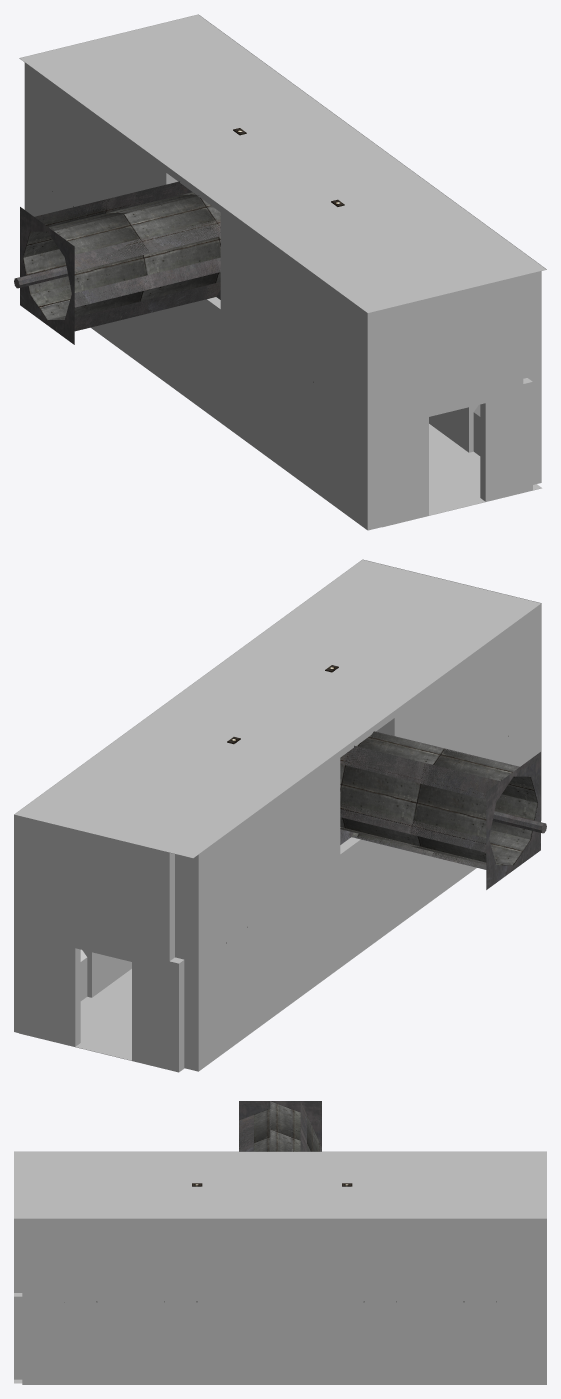
The model's file is LC_room2_vent.obj.
The picture shows the model from 3 angles, top to bottom: view 1: azimuth 30°, elevation 25°; view 2: azimuth 150°, elevation 25°; view 3: azimuth 270°, elevation 25°; orthographic projection. The views are drawn at different scales.
Visible parts, largest first — view 1: LC_room2_vent; view 2: LC_room2_vent; view 3: LC_room2_vent.
Part boxes in pixels (bbox=[...]): LC_room2_vent: bbox=[14, 14, 546, 530]; LC_room2_vent: bbox=[14, 559, 546, 1072]; LC_room2_vent: bbox=[14, 1101, 546, 1384].
Size of the model in its own units: 11.8 by 6.91 by 20.
